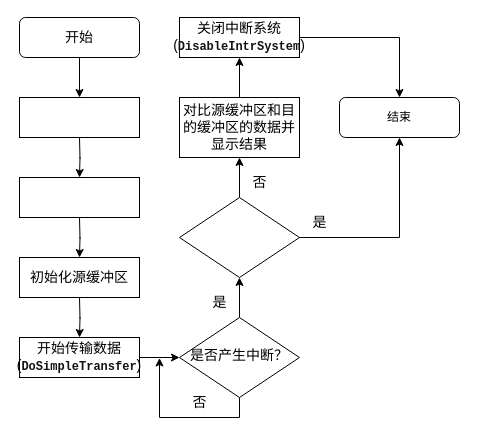
Image size: 477x443. Some labels were removed from this diagram. Here are the shapes that lost their labels. From the top down, the centre of each, then its label:
At (x=79, y=117): "初始化CDMA ( AxiCdma_Init )".
At (x=79, y=197): "配置CDMA中断 ( S etupIntrSystem )".
At (x=239, y=237): "产生错误信息？".
